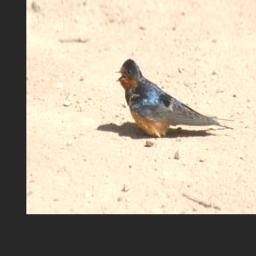Swallow: (116, 57, 233, 135)
